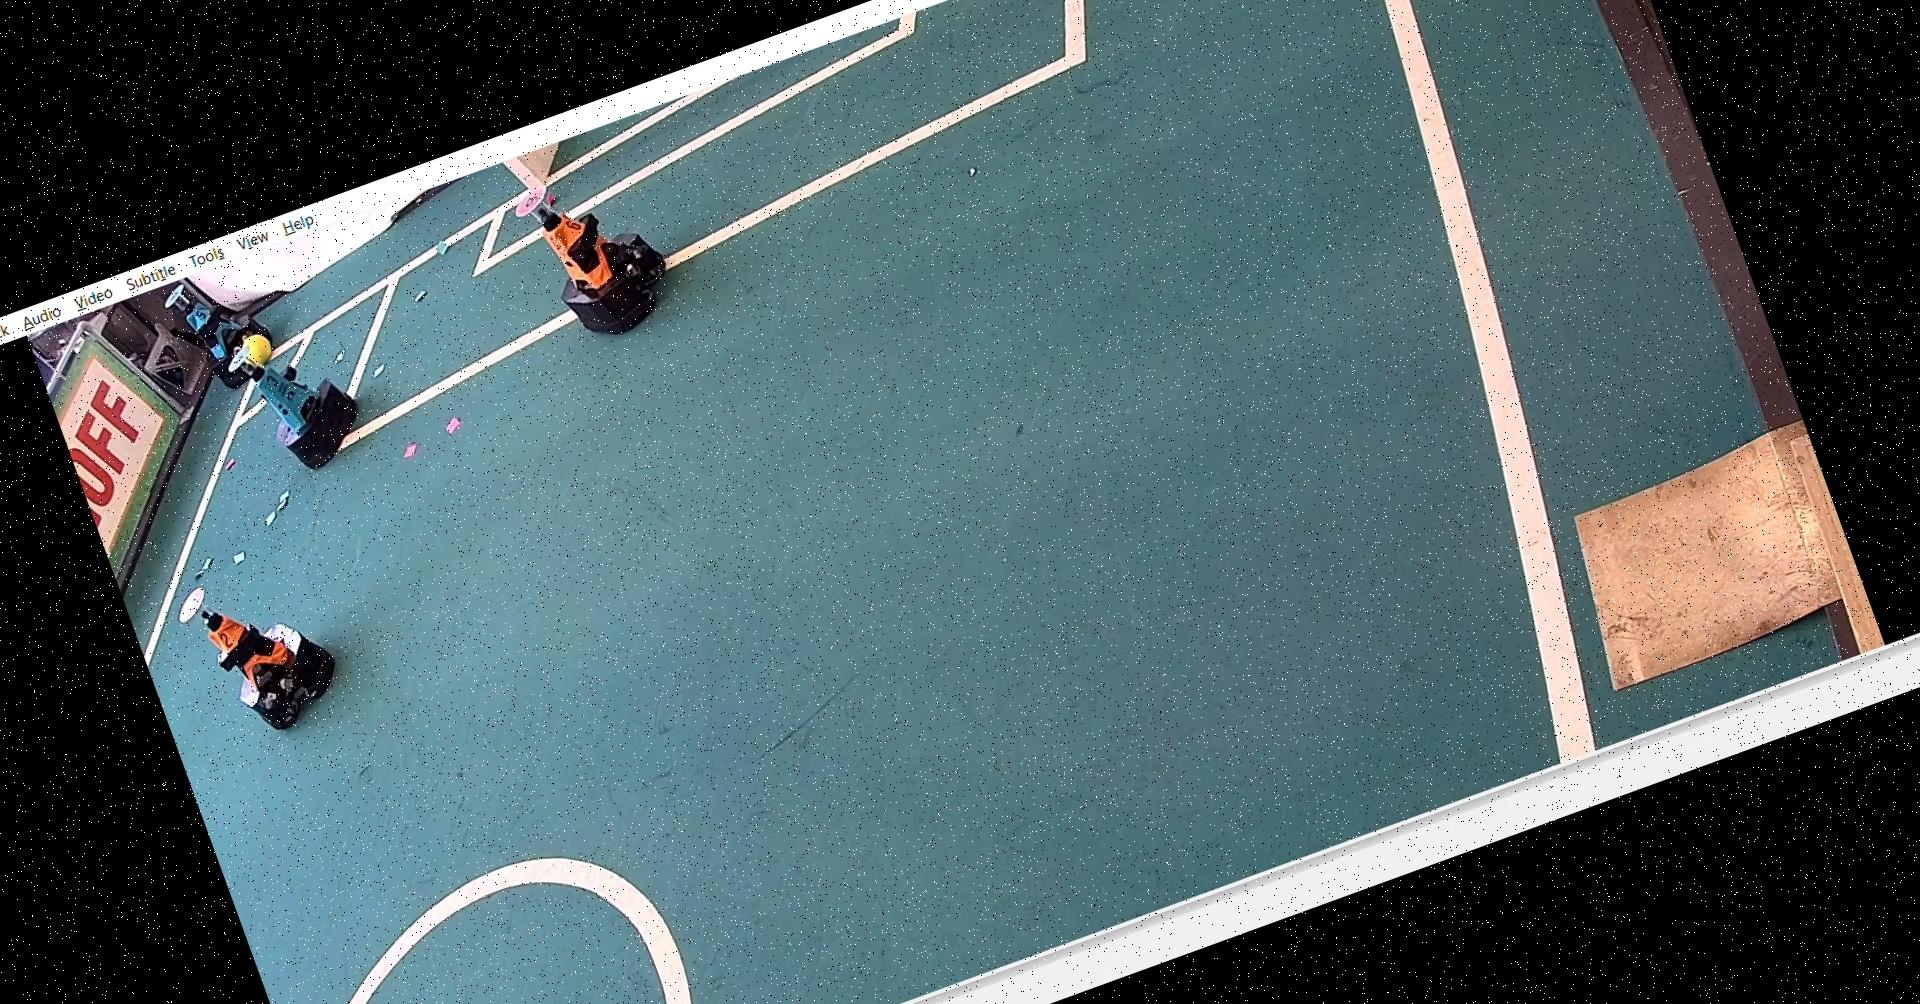Ball: (231, 324, 284, 372)
Team_Blue: (221, 311, 378, 495), (160, 259, 279, 401)
Team_Red: (502, 143, 701, 363), (171, 548, 357, 756)
